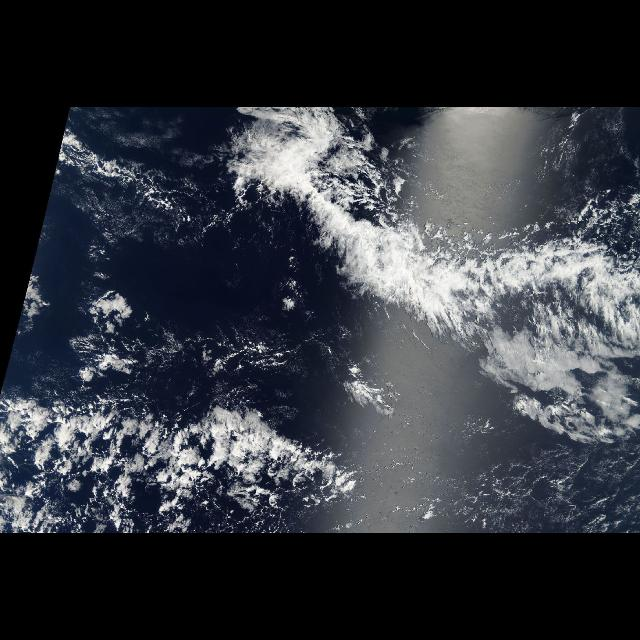Fish: (215, 109, 640, 351), (6, 376, 352, 512)
Sugar: (430, 441, 640, 533)
